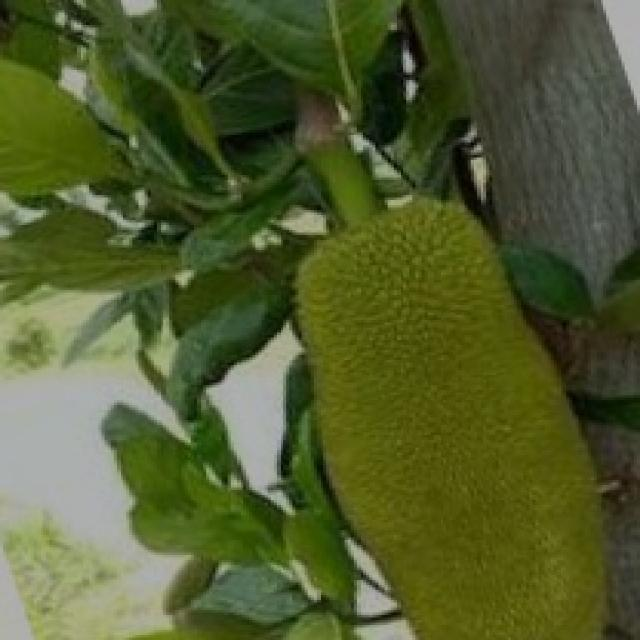Fruit: (258, 232, 637, 638), (0, 32, 129, 220)
